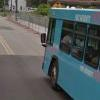Bus: (38, 4, 100, 100)
